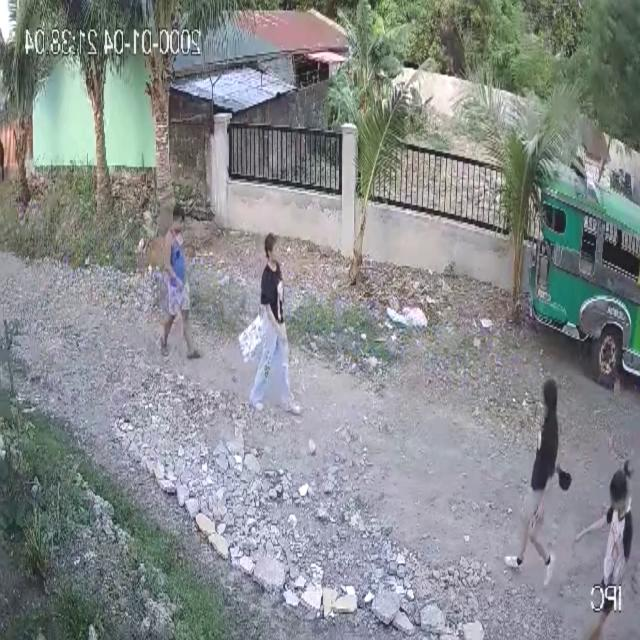walking: (497, 374, 573, 595), (234, 229, 305, 425), (573, 451, 640, 640), (158, 198, 209, 367)
